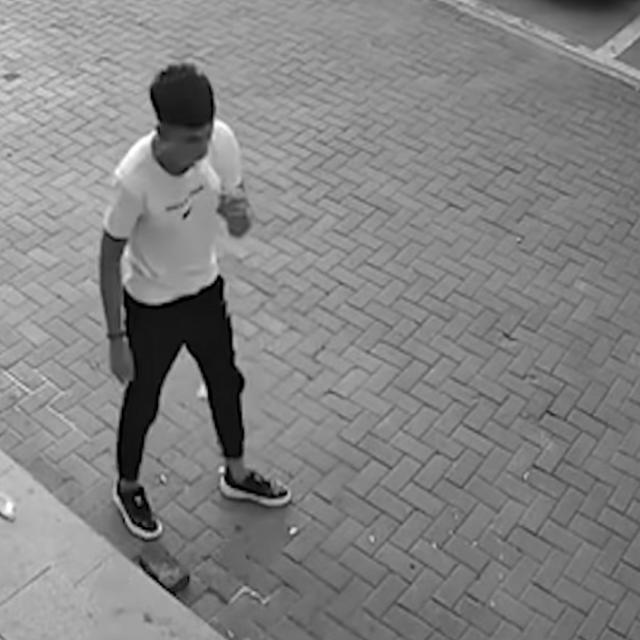Invader: (97, 61, 292, 541)
